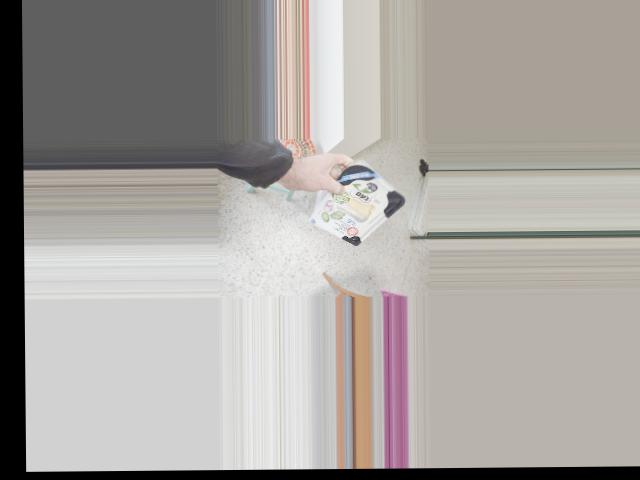cheese: (322, 140, 392, 251)
